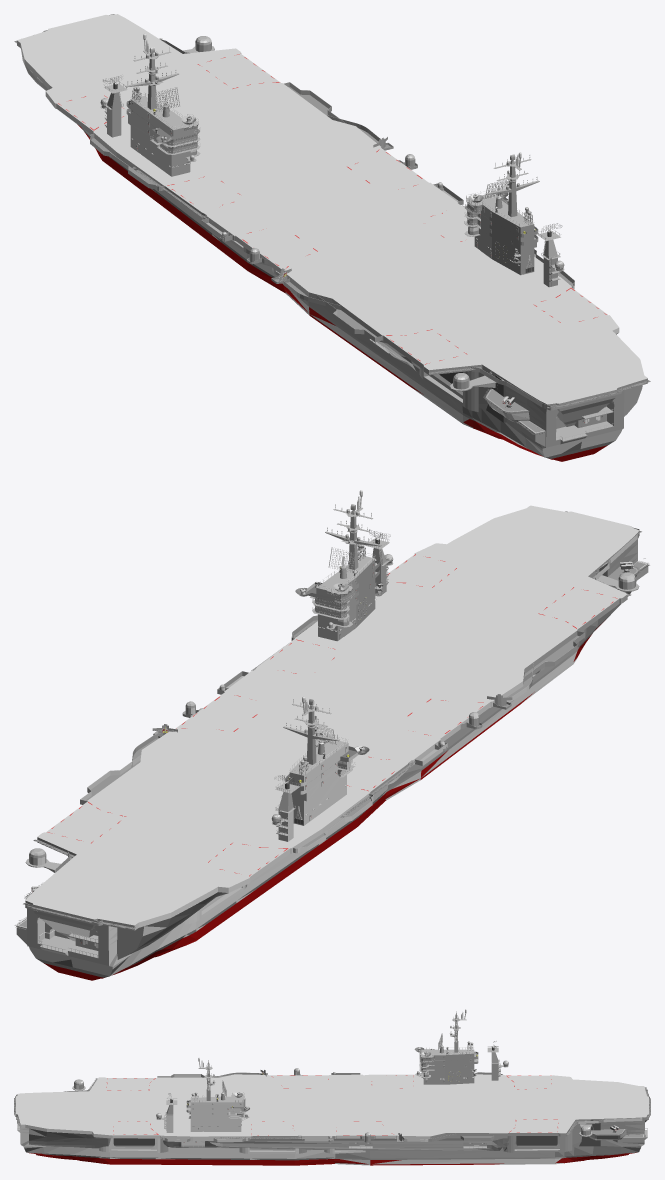
The model's file is carrier.glb.
The picture shows the model from 3 angles, top to bottom: view 1: azimuth 30°, elevation 25°; view 2: azimuth 150°, elevation 25°; view 3: azimuth 270°, elevation 25°; orthographic projection. The views are drawn at different scales.
Visible parts, largest first — view 1: carrier_000_lod0, carrier_001_lod0, carrier_000_lod0_s11v0_marks, carrier_001_lod0_s11v0_marks; view 2: carrier_001_lod0, carrier_000_lod0, carrier_001_lod0_s11v0_marks, carrier_000_lod0_s11v0_marks; view 3: carrier_000_lod0, carrier_001_lod0, carrier_000_lod0_s11v0_marks, carrier_001_lod0_s11v0_marks.
Boxes of the visible parts, <box> form: carrier_000_lod0: <box>43,14,650,461</box>; carrier_001_lod0: <box>14,16,621,426</box>; carrier_000_lod0_s11v0_marks: <box>47,15,647,404</box>; carrier_001_lod0_s11v0_marks: <box>17,14,617,403</box>; carrier_001_lod0: <box>14,511,639,980</box>; carrier_000_lod0: <box>25,490,649,941</box>; carrier_001_lod0_s11v0_marks: <box>26,511,632,924</box>; carrier_000_lod0_s11v0_marks: <box>32,505,638,918</box>; carrier_000_lod0: <box>14,1057,650,1165</box>; carrier_001_lod0: <box>14,1009,650,1165</box>; carrier_000_lod0_s11v0_marks: <box>16,1074,648,1136</box>; carrier_001_lod0_s11v0_marks: <box>16,1074,648,1135</box>.
Bounding box in the file's own units: 65.1 × 51.32 × 256.
